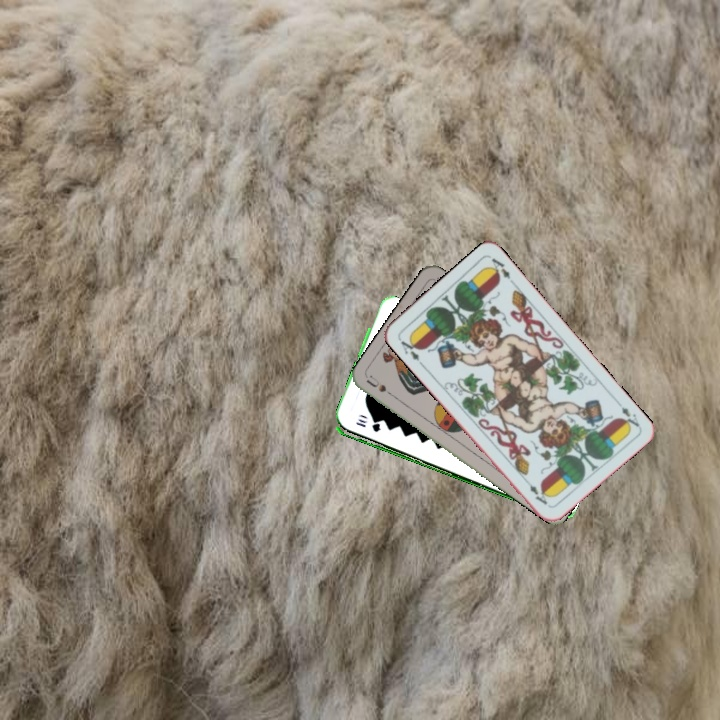EA: (612, 396, 642, 431), (397, 333, 422, 363)
G10: (352, 418, 383, 435)
SU: (363, 371, 400, 402)
